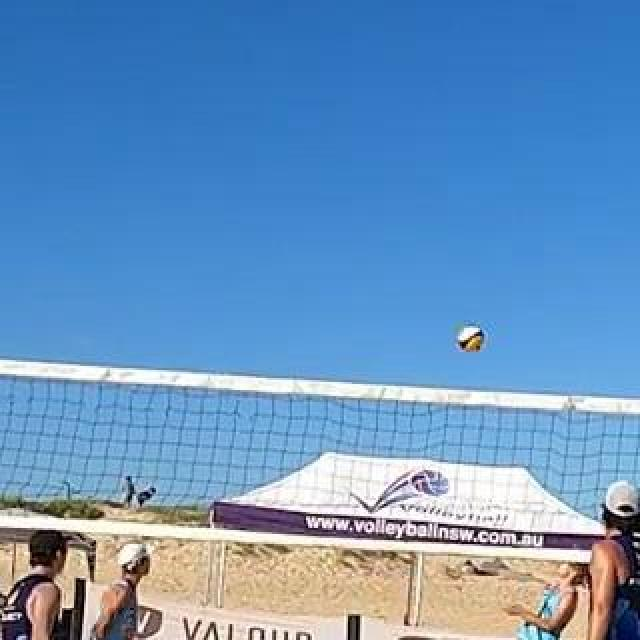volleyball: (460, 326, 486, 352)
